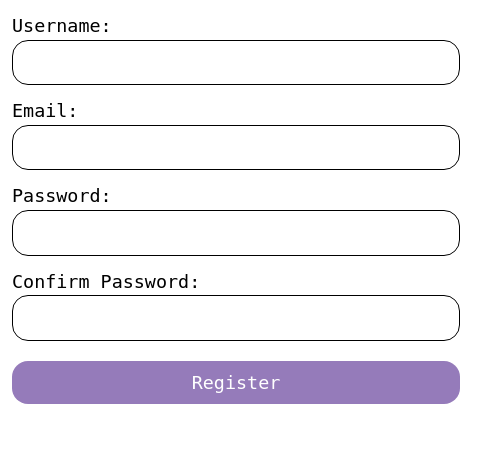
Test: Register component › shows error if passwords do not match
Note: Fill ALL required fields
Type "testuser" into the field labelled "Username:" at [236, 62], box x1=12 y1=40 x2=460 y2=85
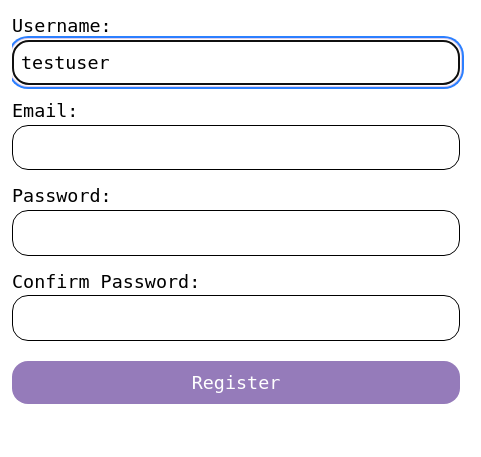
Type "test@example.com" into the field labelled "Email:" at [236, 148], box x1=12 y1=125 x2=460 y2=170
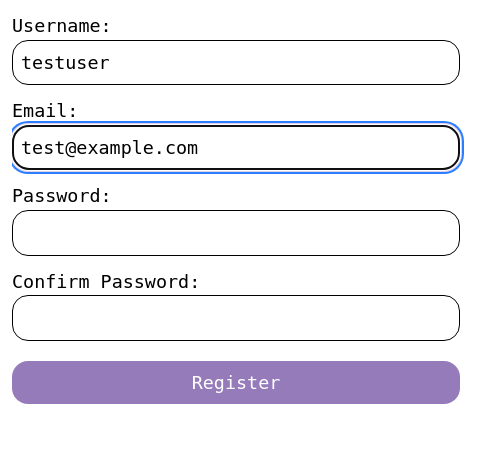
Type "123456" into the password field labelled "Password:" at [236, 233], box x1=12 y1=210 x2=460 y2=256
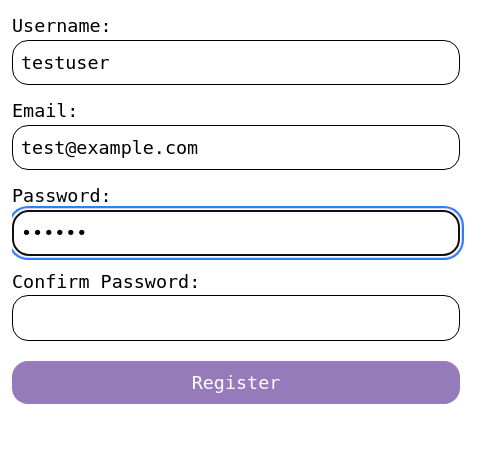
Type "654321" into the password field labelled "Confirm Password:" at [236, 318], box x1=12 y1=295 x2=460 y2=341
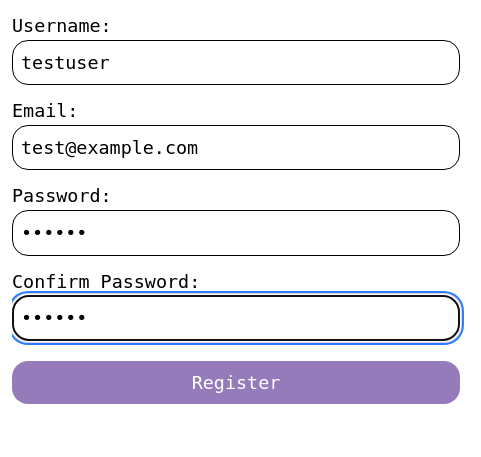
Click the button "Register" at [236, 383], box x1=12 y1=361 x2=460 y2=404
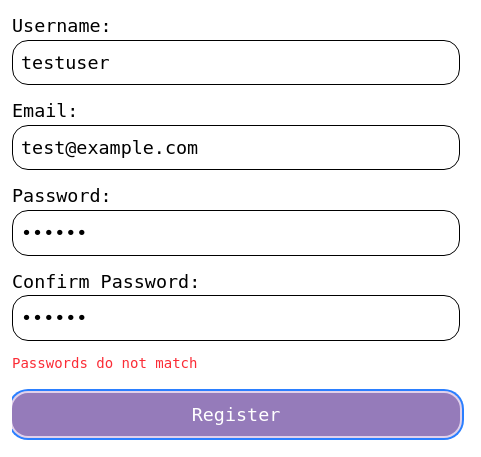
Now the text "Passwords do not match" is shown, box x1=12 y1=355 x2=197 y2=371
